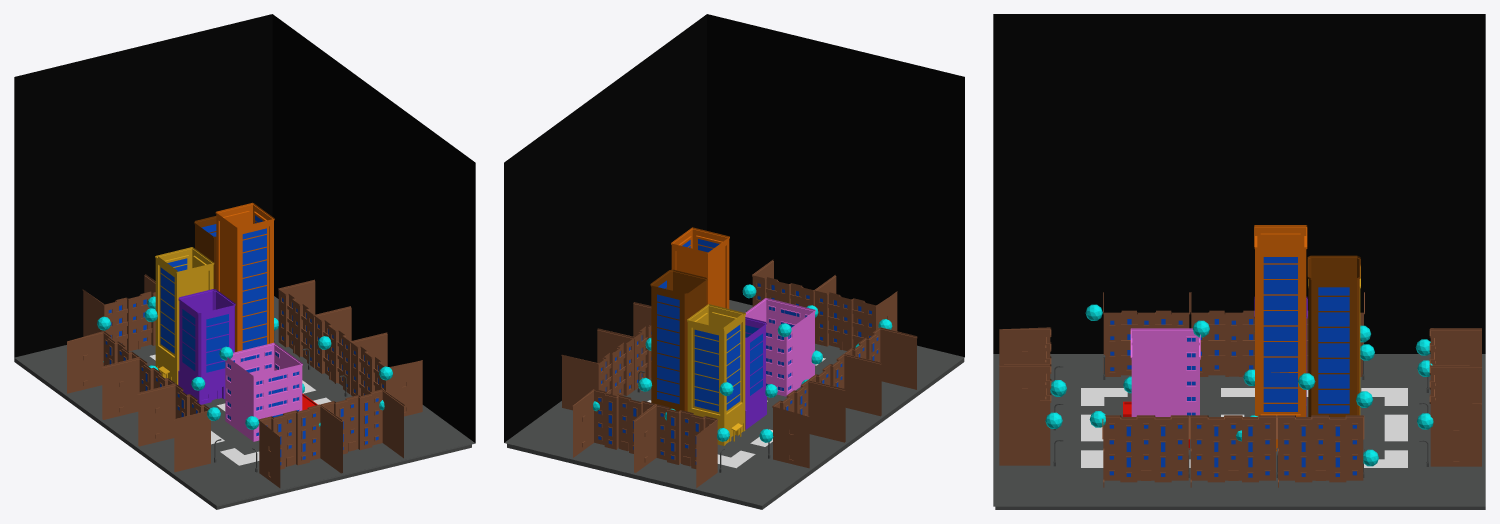
Rendered from level.glb.
The picture shows the model from 3 angles, left to right: view 1: azimuth 30°, elevation 25°; view 2: azimuth 150°, elevation 25°; view 3: azimuth 270°, elevation 25°; orthographic projection. The views are drawn at different scales.
Visible parts, largest first — view 1: C_City; view 2: C_City; view 3: C_City.
Boxes of the visible parts, x1,y1,x2,y2 form: C_City: (14,14,475,509); C_City: (504,14,964,509); C_City: (993,14,1485,509).
Size of the model in its own units: 41.62 by 43.82 by 56.7.
